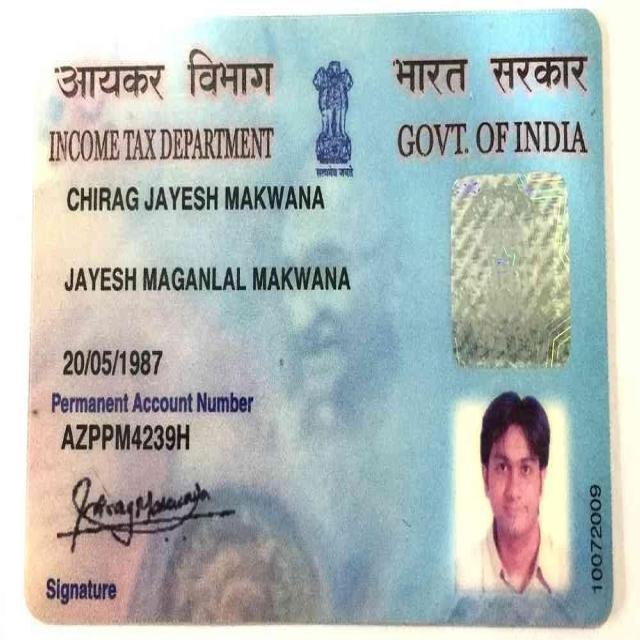pan_card: (27, 10, 611, 628)
